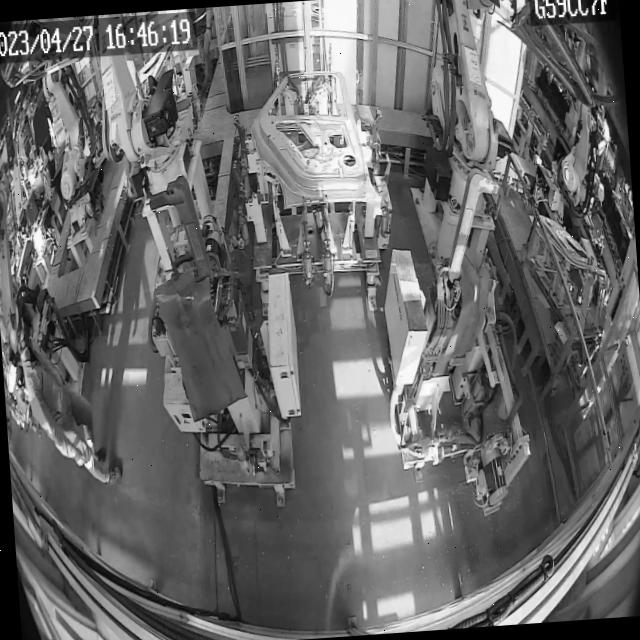Person: (17, 334, 122, 490), (185, 7, 218, 98), (30, 105, 56, 156)
